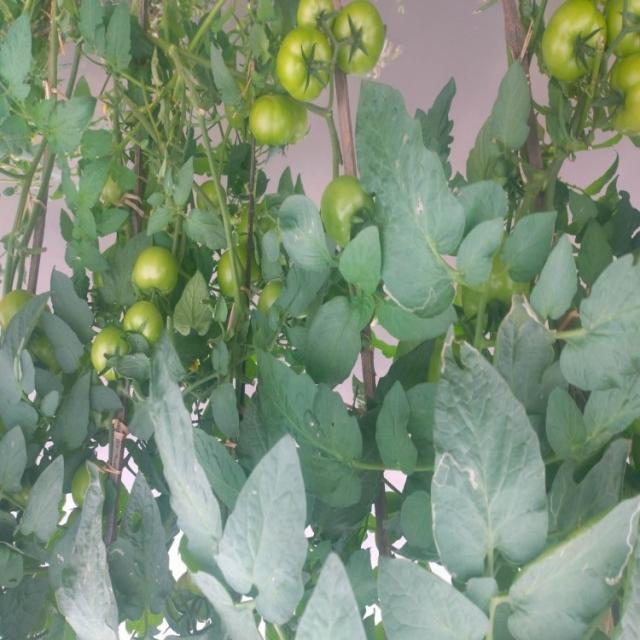tomato: (537, 1, 608, 81), (334, 1, 400, 81), (319, 174, 382, 256), (460, 258, 518, 334), (273, 24, 331, 99), (598, 46, 640, 140), (129, 242, 192, 302), (110, 290, 181, 341), (252, 94, 309, 145), (85, 319, 125, 383), (286, 3, 347, 42), (211, 248, 264, 286), (607, 1, 640, 60)
